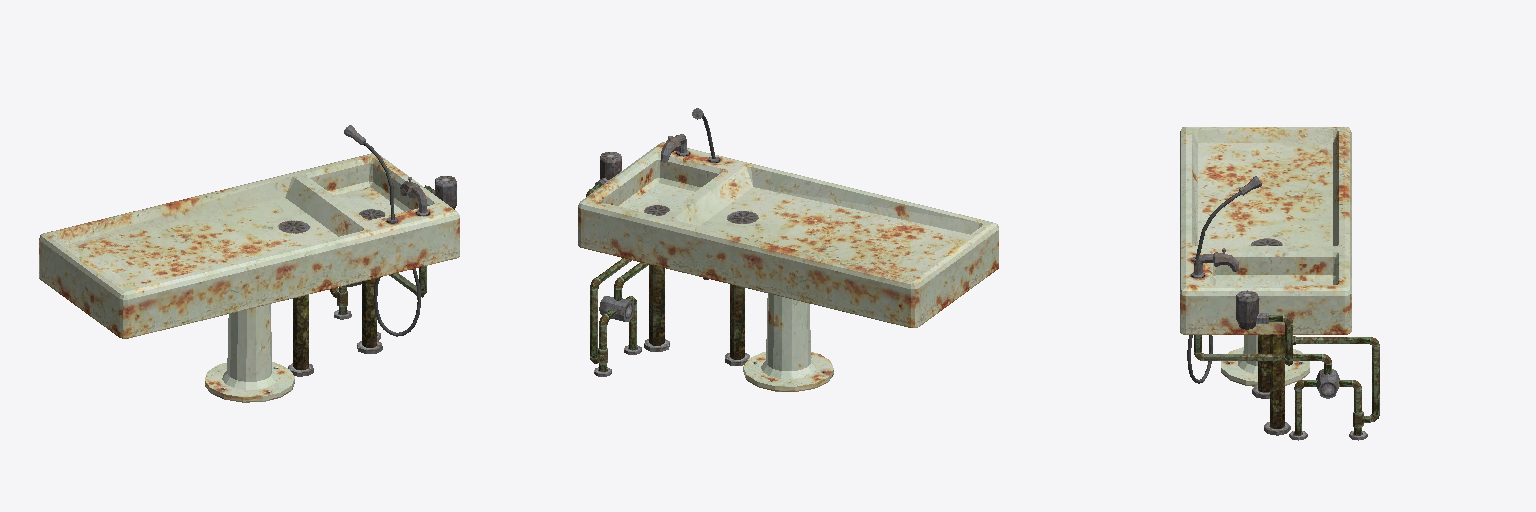
The picture shows the model from 3 angles: view 1: azimuth 30°, elevation 25°; view 2: azimuth 150°, elevation 25°; view 3: azimuth 270°, elevation 25°; orthographic projection.
Visible parts, largest first — view 1: autopsytable; view 2: autopsytable; view 3: autopsytable.
Part boxes in pixels (left/top/right/bottom): autopsytable: left=39, top=125, right=459, bottom=402; autopsytable: left=578, top=108, right=998, bottom=391; autopsytable: left=1180, top=127, right=1379, bottom=440.
Size of the model in its own units: 207 by 129 by 98.09.
Materials: 1 (1 with a texture image).